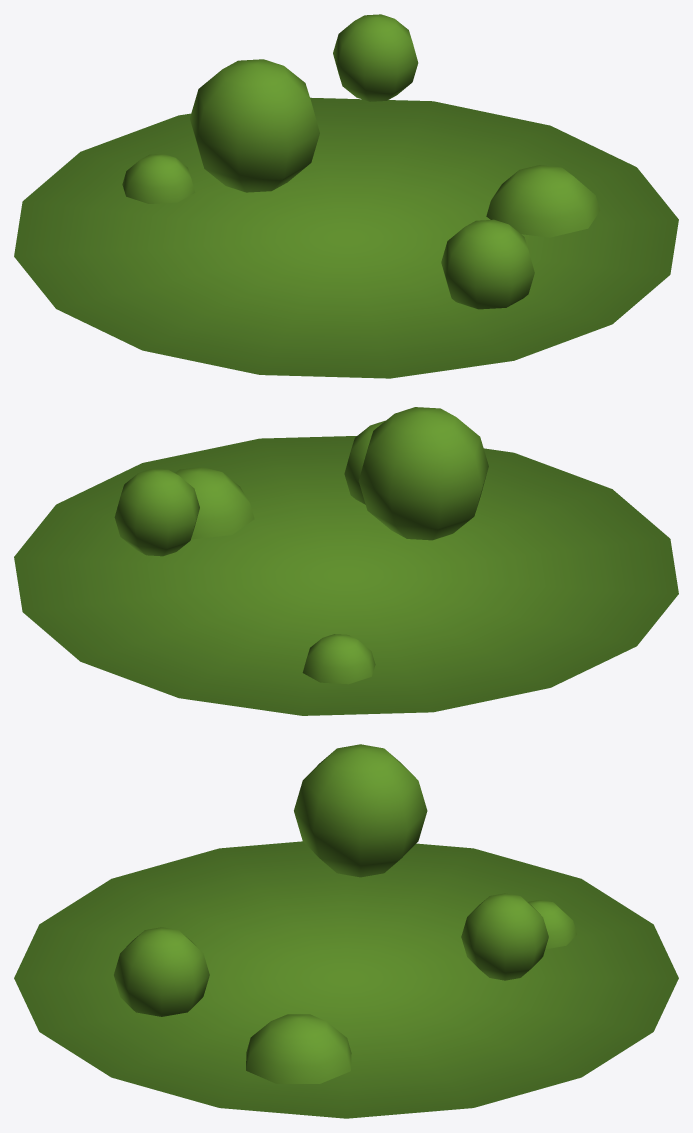
File: CauldronFillPlane3.fbx
3 renders of one model, top to bottom at view 1: azimuth 30°, elevation 25°; view 2: azimuth 150°, elevation 25°; view 3: azimuth 270°, elevation 25°, orthographic.
Parts seen in each view (by area): view 1: CauldronFillPlane3; view 2: CauldronFillPlane3; view 3: CauldronFillPlane3.
Boxes of the visible parts, x1,y1,x2,y2 form: CauldronFillPlane3: (14, 14, 678, 378); CauldronFillPlane3: (14, 407, 678, 715); CauldronFillPlane3: (14, 744, 678, 1118).
Bounding box in the file's own units: 47.4 × 15.64 × 47.4.
